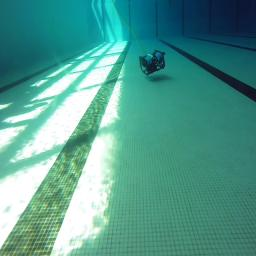front: (138, 49, 166, 76)
